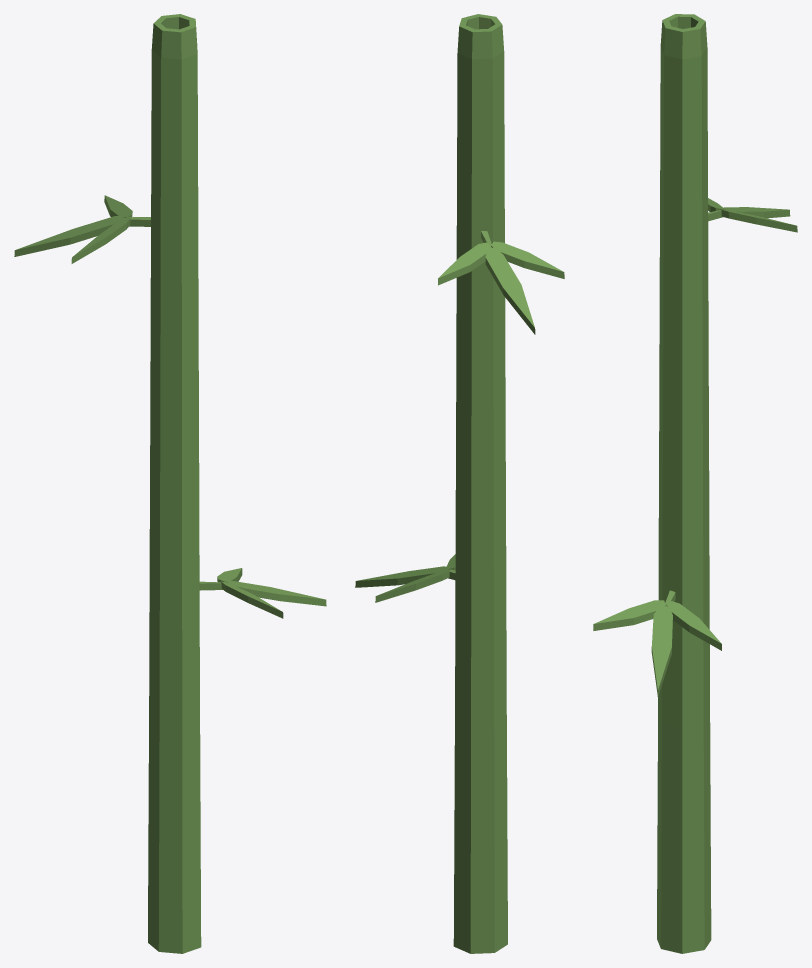
The model's file is Bamboo_2.glb.
3 renders of one model, left to right at view 1: azimuth 30°, elevation 25°; view 2: azimuth 150°, elevation 25°; view 3: azimuth 270°, elevation 25°, orthographic.
Parts seen in each view (by area): view 1: Bamboo_2_Cylinder.020; view 2: Bamboo_2_Cylinder.020; view 3: Bamboo_2_Cylinder.020.
Part boxes in pixels (x1,y1,x2,y2): Bamboo_2_Cylinder.020: [14, 14, 326, 953]; Bamboo_2_Cylinder.020: [355, 14, 564, 953]; Bamboo_2_Cylinder.020: [593, 14, 797, 953].
Bounding box in the file's own units: 0.2053 × 0.733 × 0.1475.
